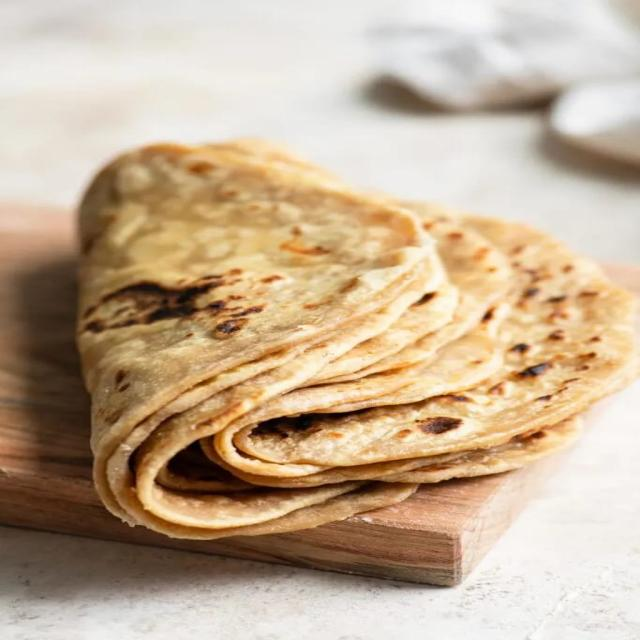chapathi: (37, 123, 640, 566)
